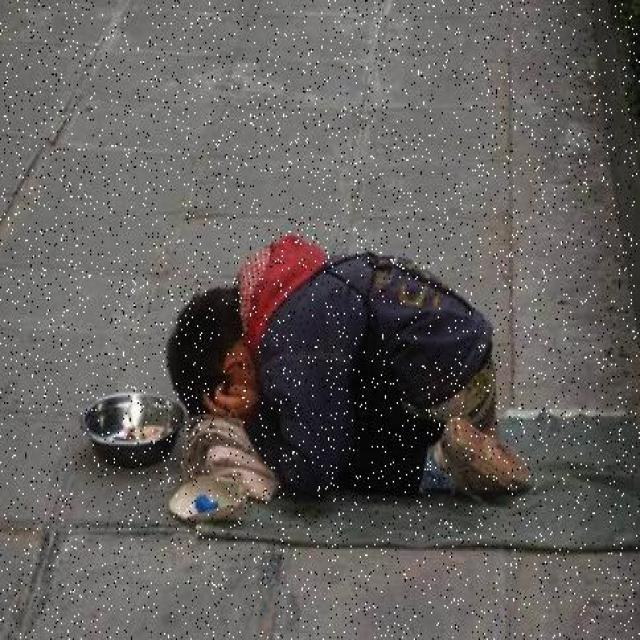fall: (180, 236, 522, 504)
